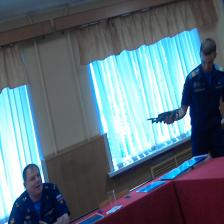drone: (146, 102, 182, 126)
